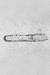N18: (5, 1, 45, 75)
